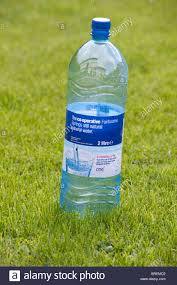plastic_bottle: (57, 13, 133, 216)
